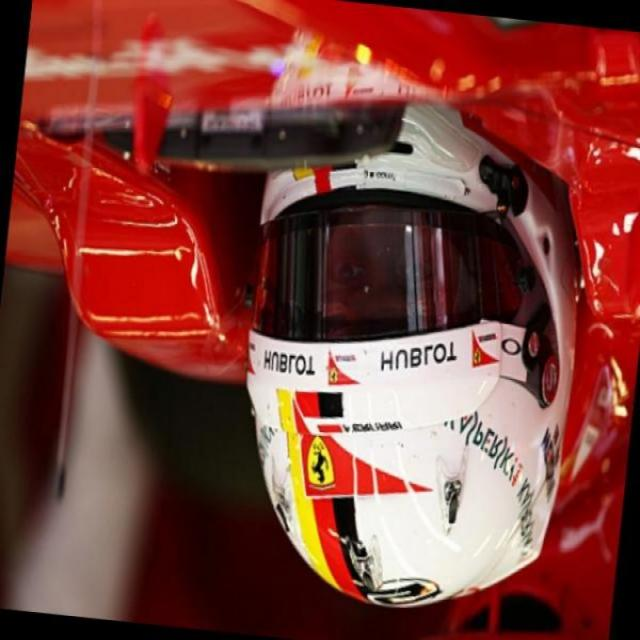Helmet: (244, 126, 588, 624)
